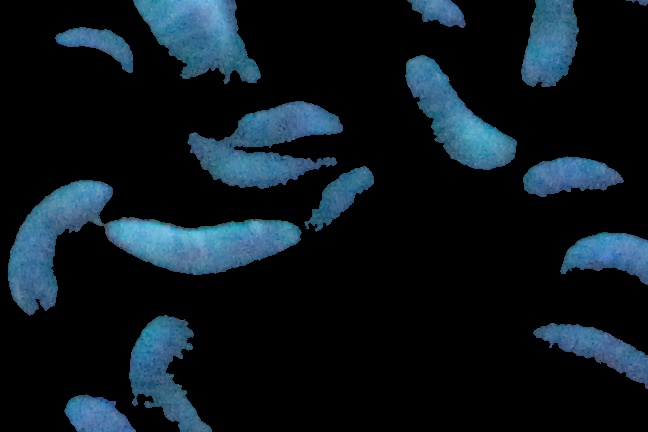larvae: (405, 56, 530, 173), (10, 177, 115, 313), (92, 210, 303, 270), (135, 1, 262, 89), (126, 315, 212, 432), (187, 135, 335, 195), (531, 319, 648, 388), (528, 1, 598, 98), (556, 226, 648, 289), (220, 100, 345, 142), (306, 166, 377, 239), (519, 161, 629, 202), (52, 30, 134, 72)
